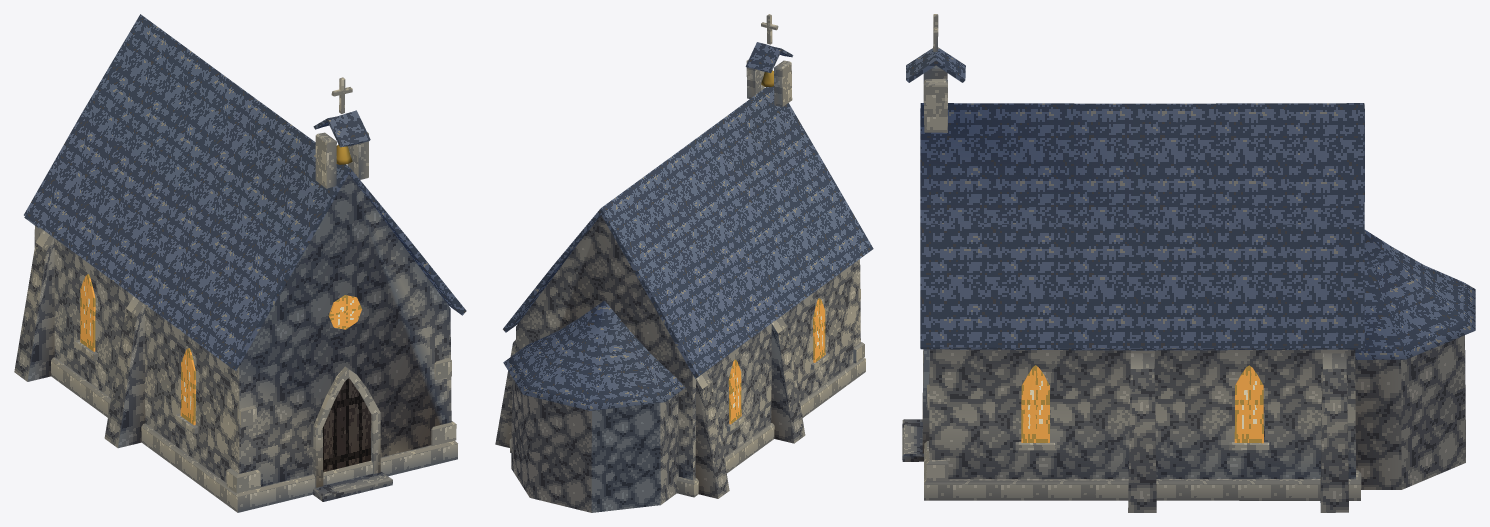
The model's file is vlg.chapel.glb.
3 renders of one model, left to right at view 1: azimuth 30°, elevation 25°; view 2: azimuth 150°, elevation 25°; view 3: azimuth 270°, elevation 25°, orthographic. The views are drawn at different scales.
Parts seen in each view (by area): view 1: kit_roof, kit_walls, kit_stonework, kit_fittings; view 2: kit_roof, kit_walls, kit_stonework, kit_fittings; view 3: kit_roof, kit_walls, kit_stonework, kit_fittings.
Boxes of the visible parts, box(x1,y1,x2,y2) form: kit_roof: box(24, 14, 466, 370); kit_walls: box(34, 174, 451, 486); kit_stonework: box(14, 132, 457, 512); kit_fittings: box(75, 77, 392, 501); kit_roof: box(503, 42, 873, 410); kit_walls: box(511, 215, 860, 512); kit_stonework: box(495, 59, 865, 498); kit_fittings: box(727, 14, 829, 431); kit_roof: box(906, 47, 1475, 359); kit_walls: box(929, 335, 1465, 489); kit_stonework: box(923, 65, 1361, 512); kit_fittings: box(902, 14, 1269, 461).
Size of the model in its own units: 6.91 by 9.99 by 12.08.
7 materials, 6 textured.
